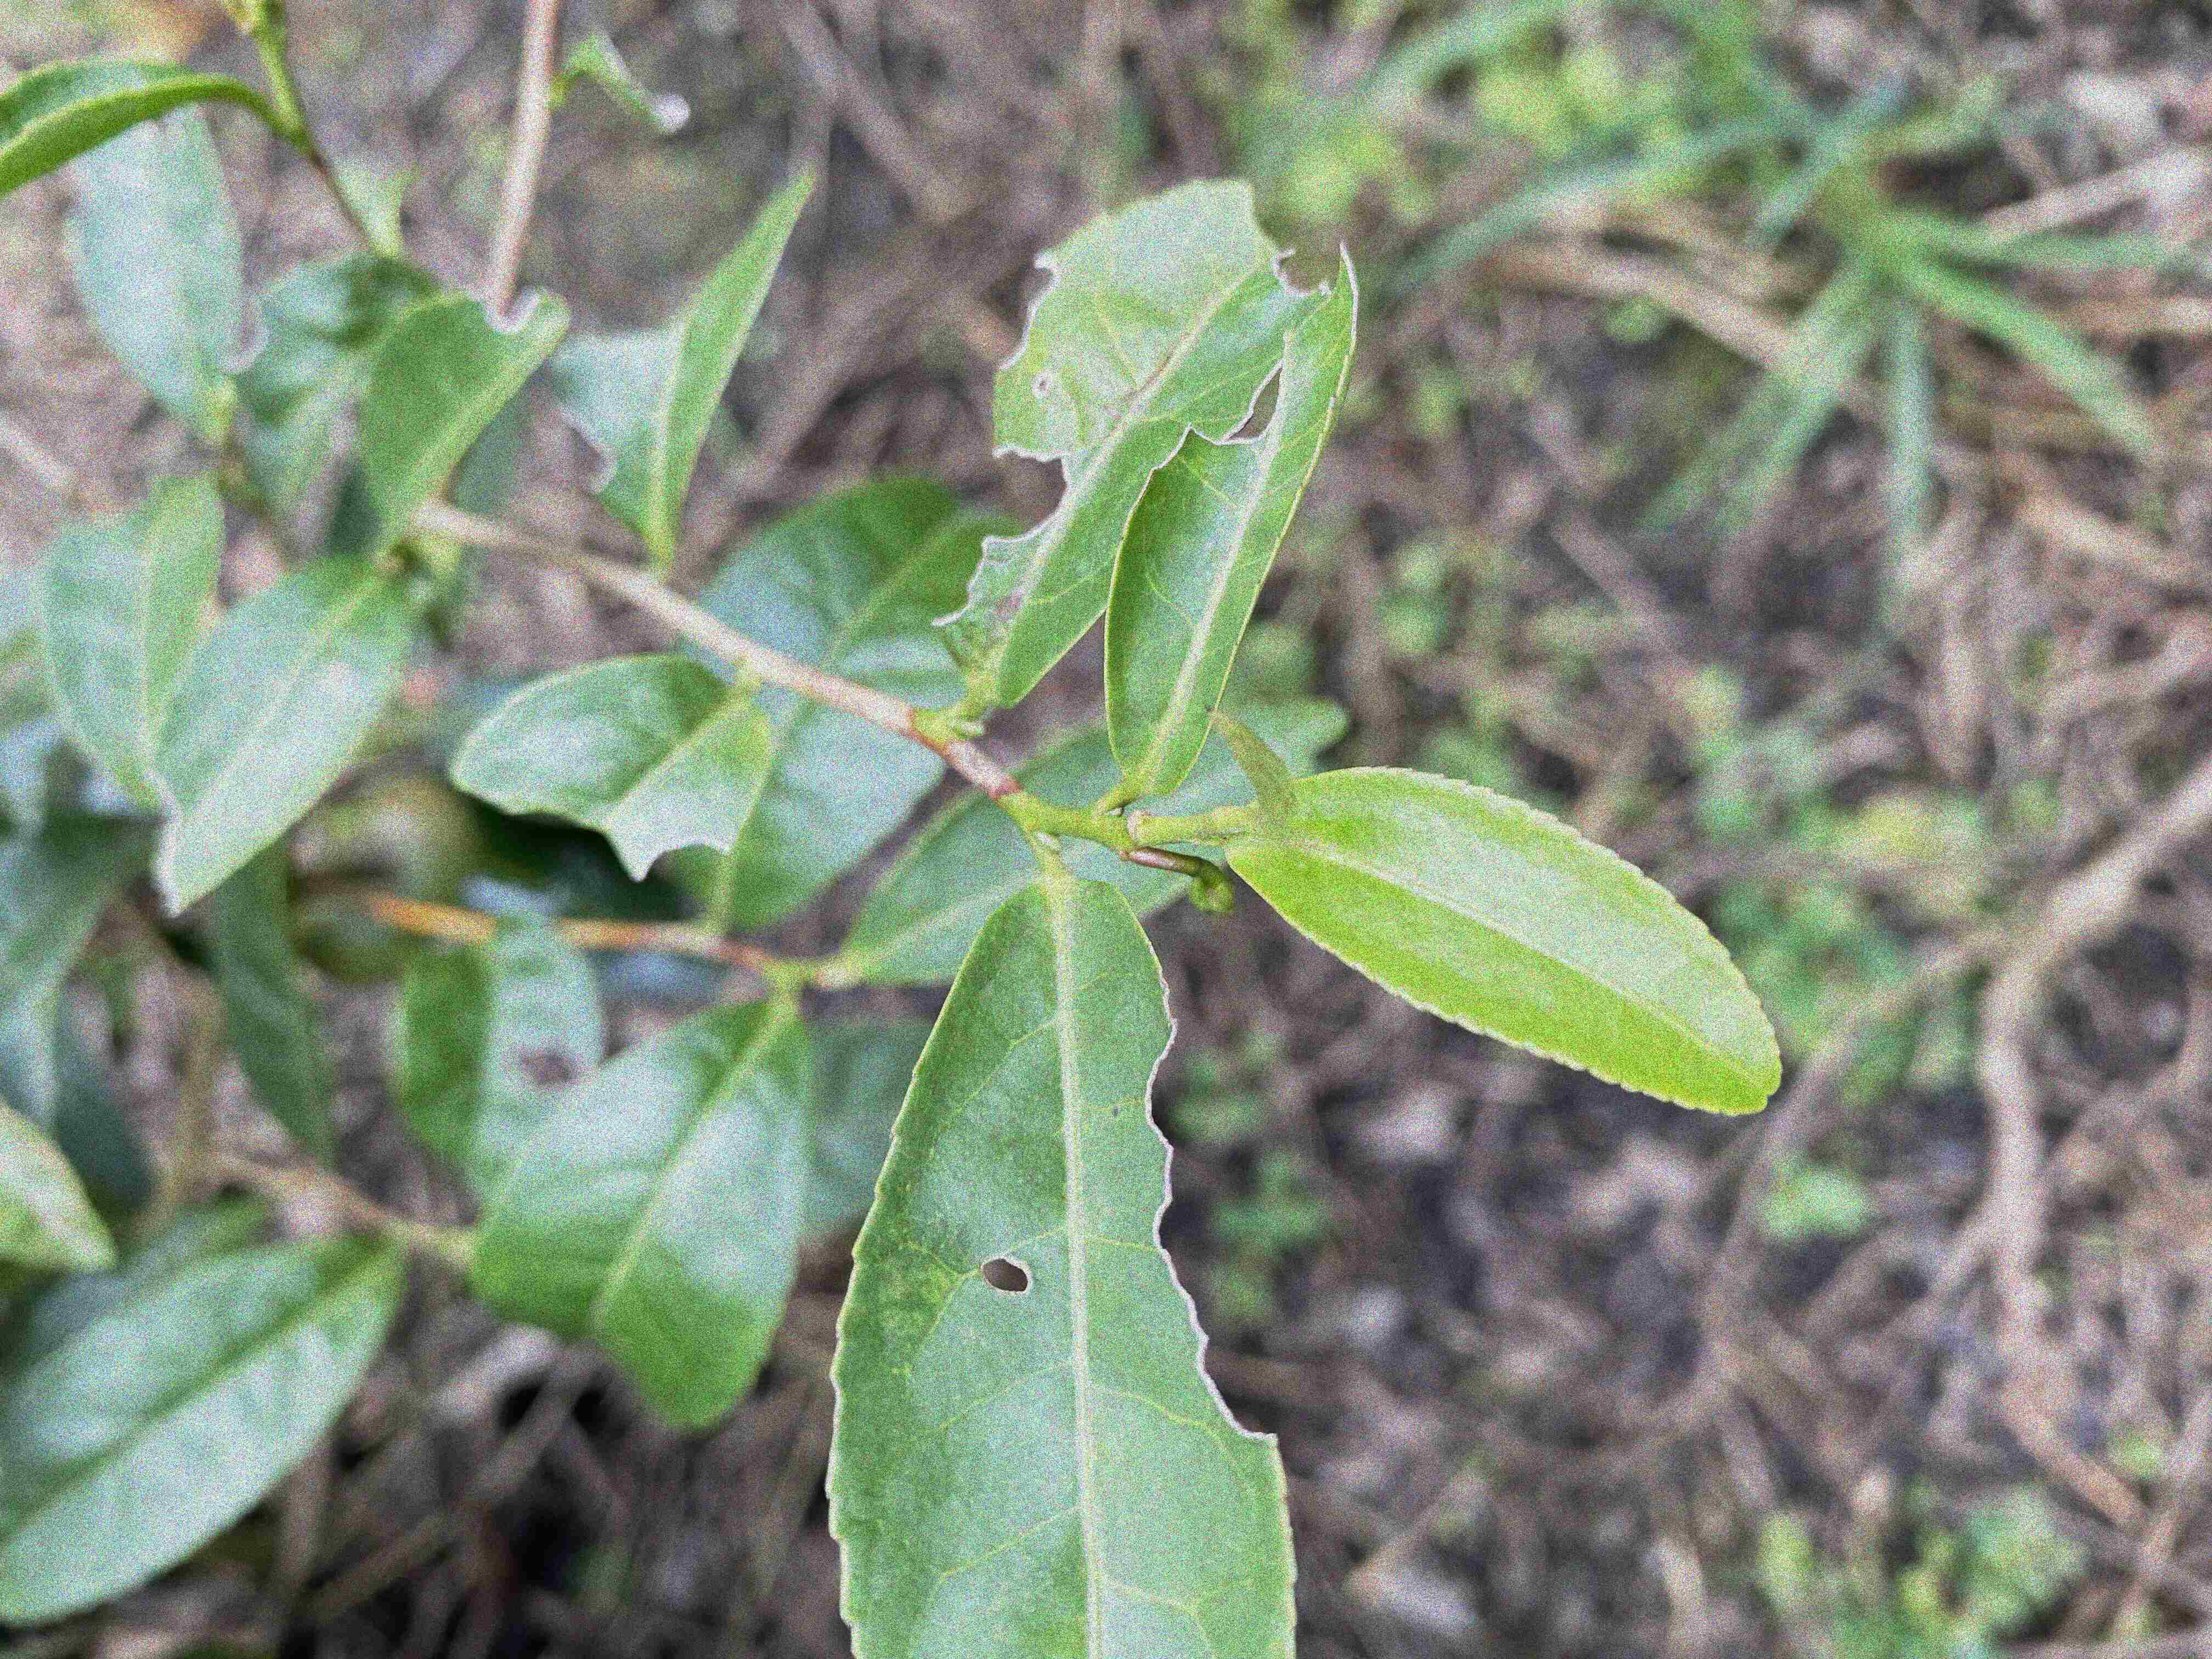chihuo_high: (815, 873, 1299, 1656), (928, 174, 1324, 708), (1101, 244, 1360, 795), (451, 652, 772, 884)
chihuo_low: (146, 551, 411, 917)
healthy: (1226, 763, 1785, 1115)
